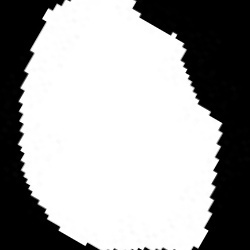spot: (18, 1, 227, 249)
